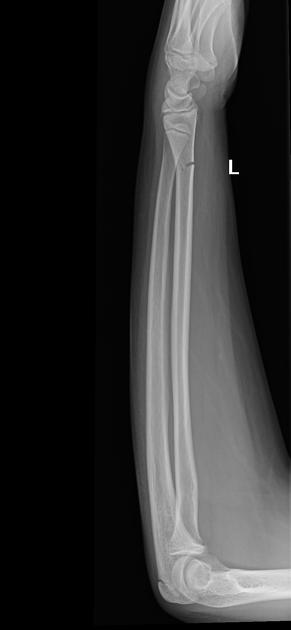fractured: (174, 156, 195, 174)
